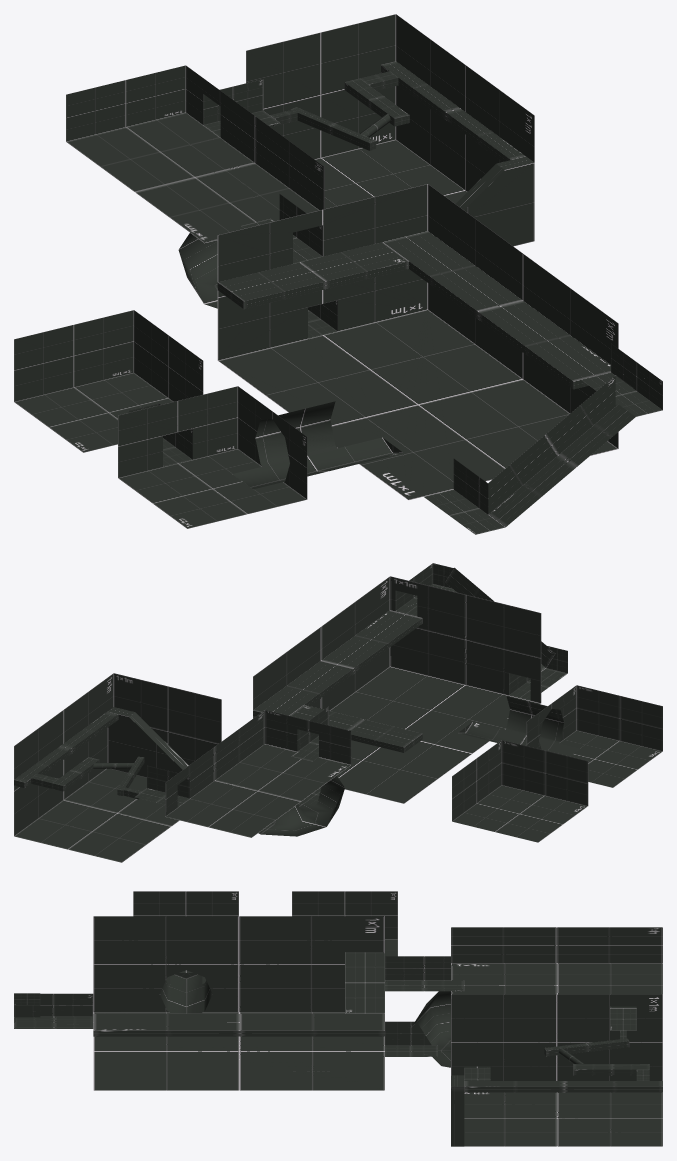
Rendered from level_1.gltf.
The picture shows the model from 3 angles, top to bottom: view 1: azimuth 30°, elevation 25°; view 2: azimuth 150°, elevation 25°; view 3: azimuth 270°, elevation 25°; orthographic projection. The views are drawn at different scales.
Parts seen in each view (by area): view 1: MainRoomsAndCorridors2, StartingRoom2, Overhang2, Overhang23, LavaStairs2, LavaBalcony2, LavaBalcony23, LavaBalcony42; view 2: MainRoomsAndCorridors2, StartingRoom2, Overhang2, LavaStairs2, Overhang23, LavaBalcony2, LavaBalcony23; view 3: MainRoomsAndCorridors2, Overhang2, StartingRoom2, Overhang23, LavaBalcony2, LavaStairs2, LavaBalcony23, LavaBalcony42.
Part boxes in pixels (x1,y1,x2,y2): MainRoomsAndCorridors2: [66, 14, 662, 534]; StartingRoom2: [14, 310, 203, 452]; Overhang2: [383, 231, 610, 389]; Overhang23: [217, 242, 408, 308]; LavaStairs2: [456, 156, 534, 246]; LavaBalcony2: [381, 61, 525, 161]; LavaBalcony23: [344, 78, 409, 126]; LavaBalcony42: [290, 107, 376, 150]; MainRoomsAndCorridors2: [14, 563, 662, 862]; StartingRoom2: [452, 740, 588, 842]; Overhang2: [253, 610, 422, 716]; LavaStairs2: [107, 707, 188, 777]; Overhang23: [289, 705, 422, 752]; LavaBalcony2: [14, 711, 118, 788]; LavaBalcony23: [52, 757, 99, 791]; MainRoomsAndCorridors2: [14, 891, 662, 1146]; Overhang2: [93, 1013, 384, 1036]; StartingRoom2: [292, 891, 397, 956]; Overhang23: [345, 952, 384, 1013]; LavaBalcony2: [464, 1081, 662, 1092]; LavaStairs2: [451, 1075, 464, 1146]; LavaBalcony23: [573, 1064, 649, 1075]; LavaBalcony42: [544, 1038, 629, 1056].
Size of the model in its own units: 37 by 8.5 by 49.
Materials: 1 (1 with a texture image).
